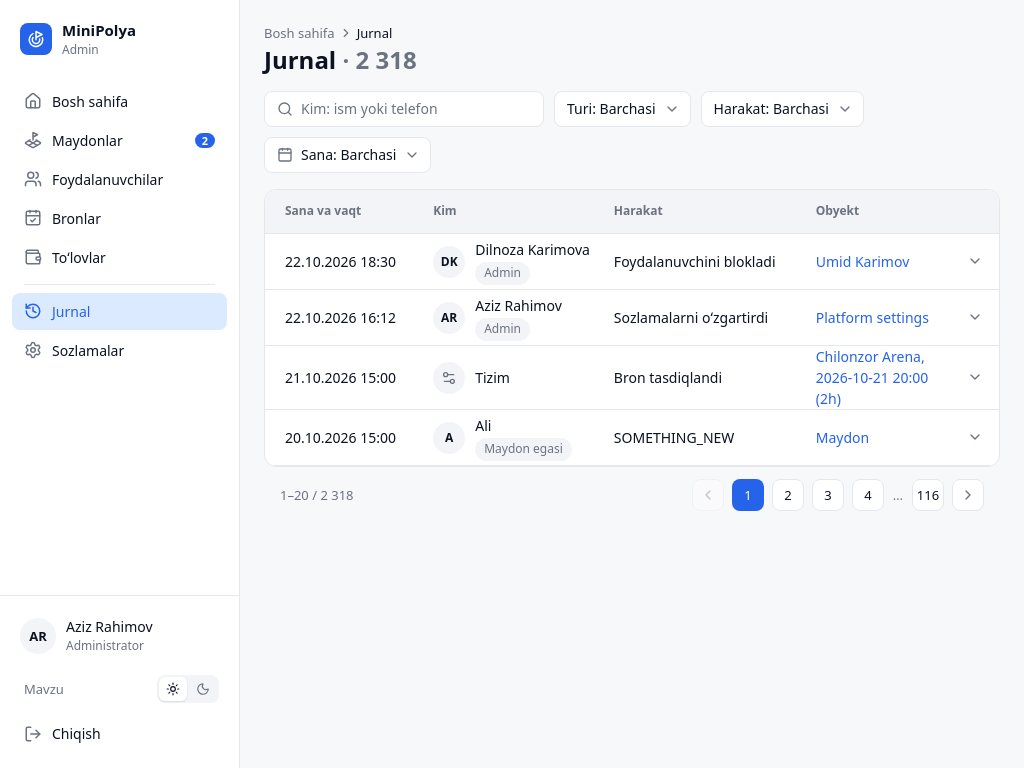
Test case: Jurnal › expands a row into readable changes, the reason and the IP — never JSON
Check: the text "Foydalanuvchini blokladi" is shown, box [602, 234, 804, 290]
Click the button named "Batafsil" in the row of "22.10.2026 18:30" at x=975, y=262, box [963, 250, 987, 274]
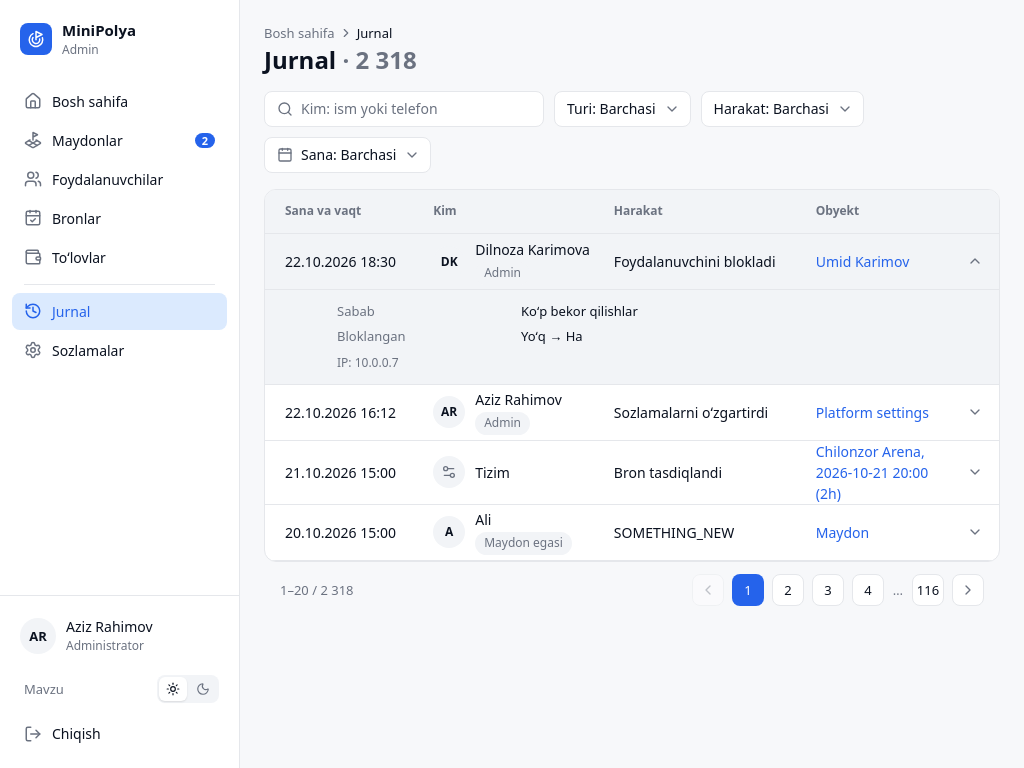
Check: the text "Koʻp bekor qilishlar" is shown, box [521, 302, 638, 321]
Check: the text "Bloklangan" is shown, box [337, 327, 406, 345]
Check: the text "Yoʻq → Ha" is shown, box [521, 327, 583, 345]
Click the button named "Batafsil" in the row of "21.10.2026 15:00" at x=975, y=472, box [963, 460, 987, 484]
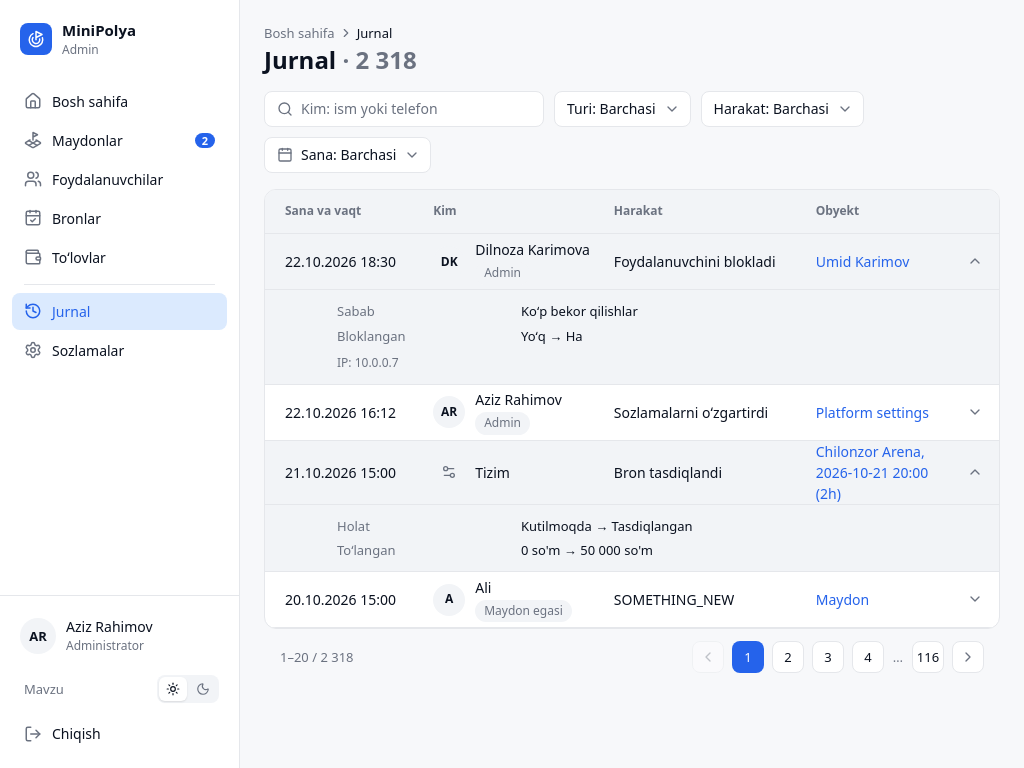
Check: the text "Kutilmoqda → Tasdiqlangan" is shown, box [521, 517, 693, 535]
Check: the text "0 so'm → 50 000 so'm" is shown, box [521, 541, 653, 559]
Click the button named "Batafsil" in the row of "20.10.2026 15:00" at x=975, y=599, box [963, 587, 987, 611]
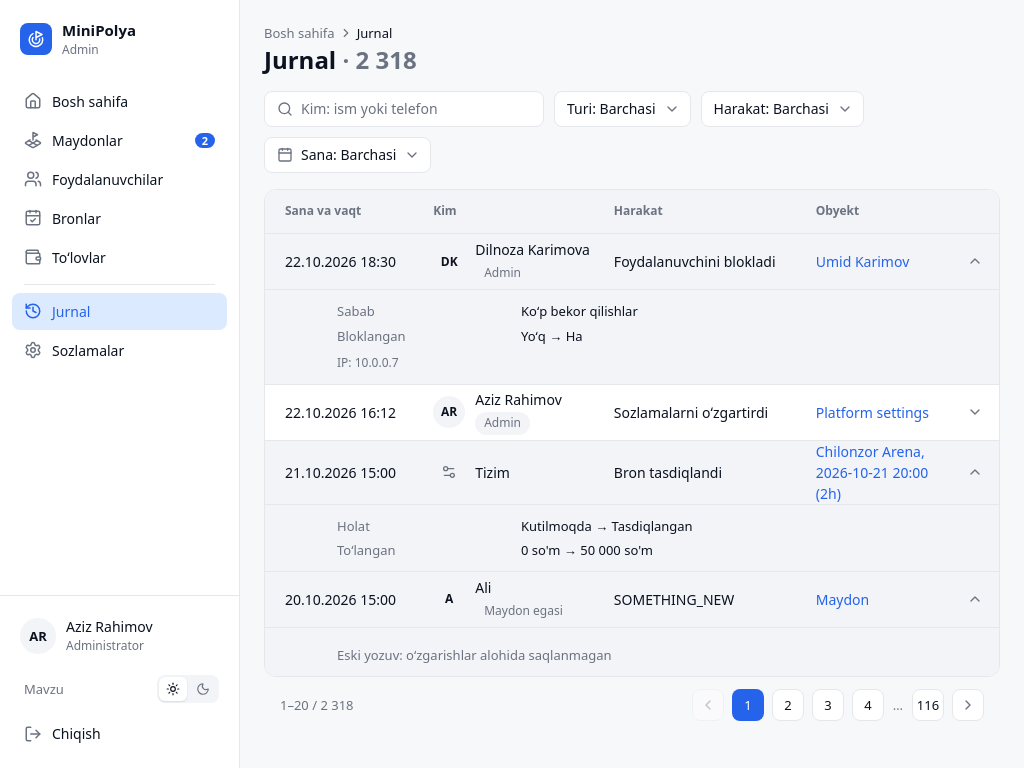
Check: the text "Eski yozuv: oʻzgarishlar alohida saqlanmagan" is shown, box [337, 646, 612, 664]
Click the button named "Yopish" in the row of "22.10.2026 18:30" at x=975, y=262, box [963, 250, 987, 274]
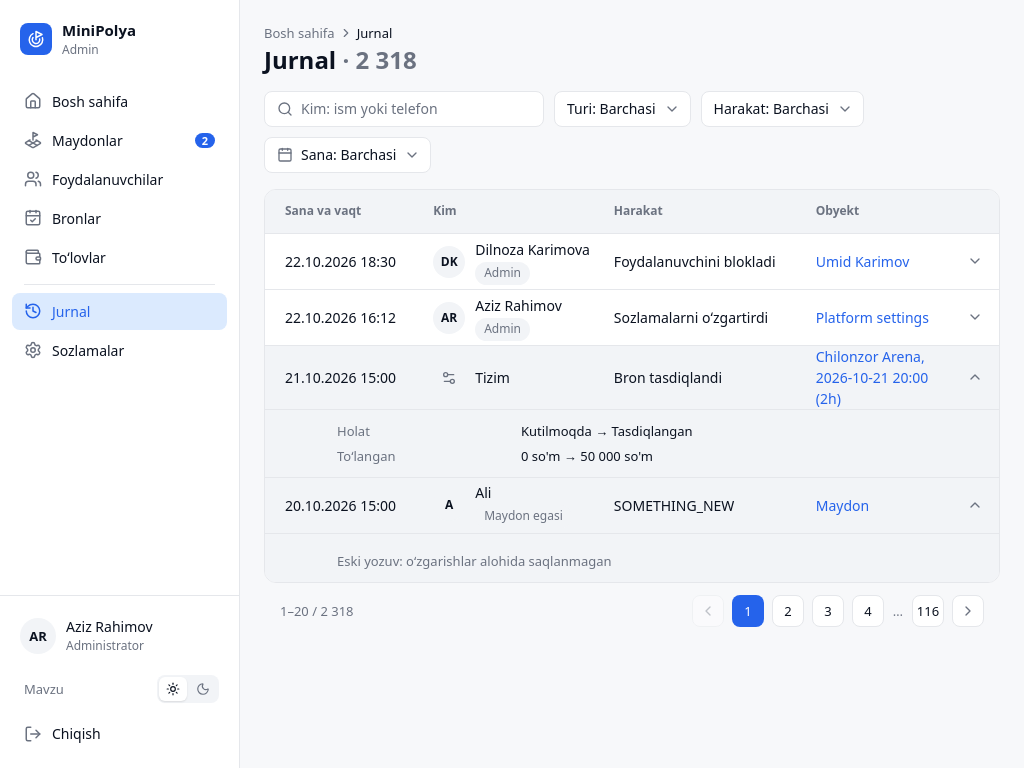
Check: the text "Koʻp bekor qilishlar" is gone
